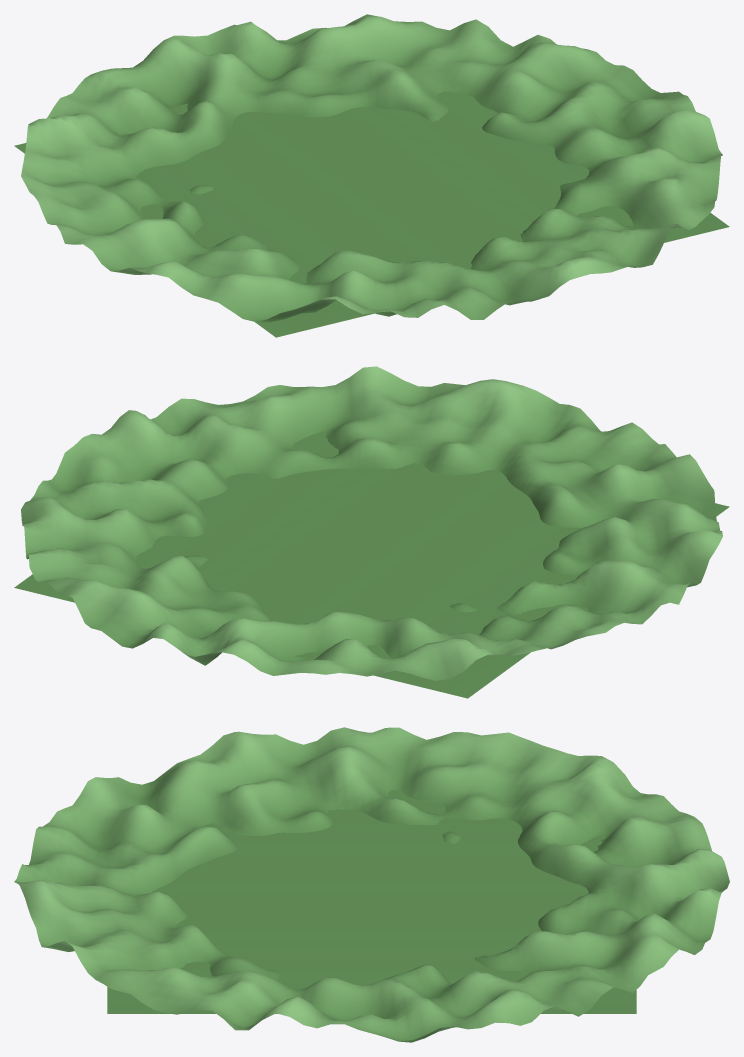
The model's file is GroundAndHills.fbx.
The picture shows the model from 3 angles, top to bottom: view 1: azimuth 30°, elevation 25°; view 2: azimuth 150°, elevation 25°; view 3: azimuth 270°, elevation 25°; orthographic projection.
Parts seen in each view (by area): view 1: Plane; view 2: Plane; view 3: Plane.
Boxes of the visible parts, box(x1,y1,x2,y2) form: Plane: box(14, 14, 729, 337); Plane: box(14, 366, 729, 698); Plane: box(14, 727, 729, 1042).
Bounding box in the file's own units: 47799 × 5837 × 47799.
